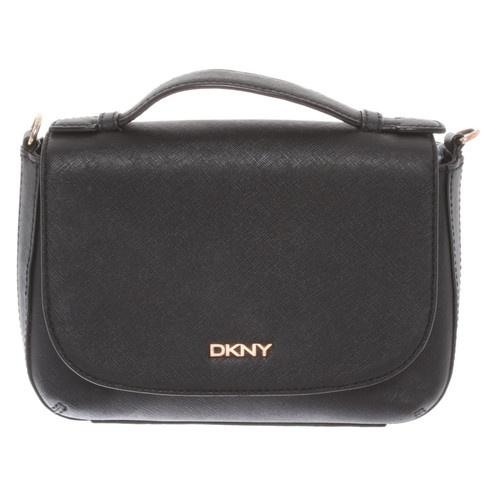DKNY: (210, 343, 273, 358)
